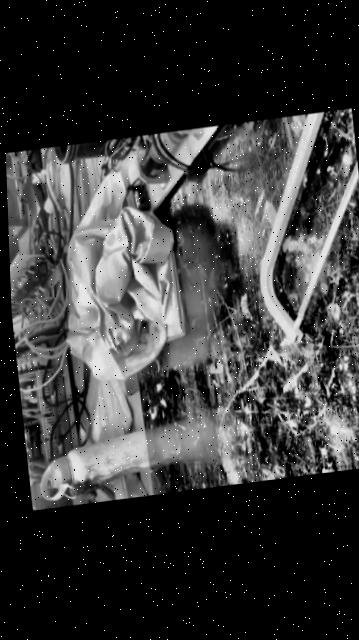pot: (58, 138, 121, 166)
